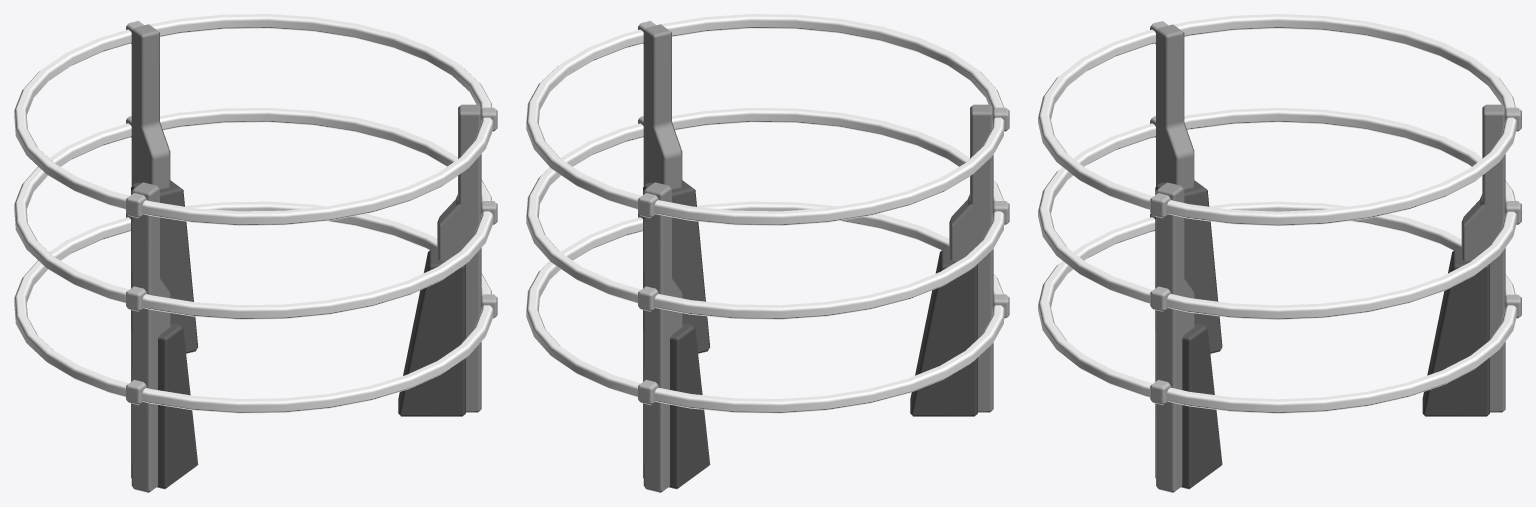
Rendered from Teleporter_Cage.fbx.
3 views of the same model, side by side, from view 1: azimuth 30°, elevation 25°; view 2: azimuth 150°, elevation 25°; view 3: azimuth 270°, elevation 25° (orthographic).
Visible parts, largest first — view 1: Cube.001; view 2: Cube.001; view 3: Cube.001.
Part boxes in pixels (x1,y1,x2,y2): Cube.001: [14, 14, 497, 492]; Cube.001: [526, 14, 1009, 492]; Cube.001: [1038, 14, 1521, 492].
Size of the model in its own units: 269 by 187 by 272.
